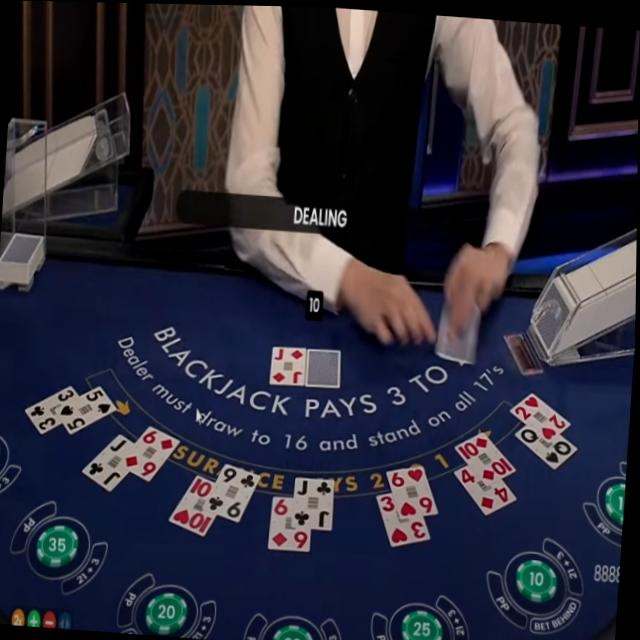Card-10: (456, 429, 518, 484), (171, 474, 218, 536)
Card-2: (511, 390, 573, 441)
Card-3: (377, 491, 432, 545), (26, 384, 80, 434)
Card-4: (456, 462, 518, 513)
Card-5: (57, 384, 118, 435)
Card-6: (121, 423, 182, 481), (387, 463, 440, 518), (270, 495, 312, 550)
Card-9: (204, 461, 262, 522)
Card-J: (84, 433, 135, 492), (294, 475, 336, 529), (270, 345, 307, 385)
Card-Q: (516, 423, 579, 468)
